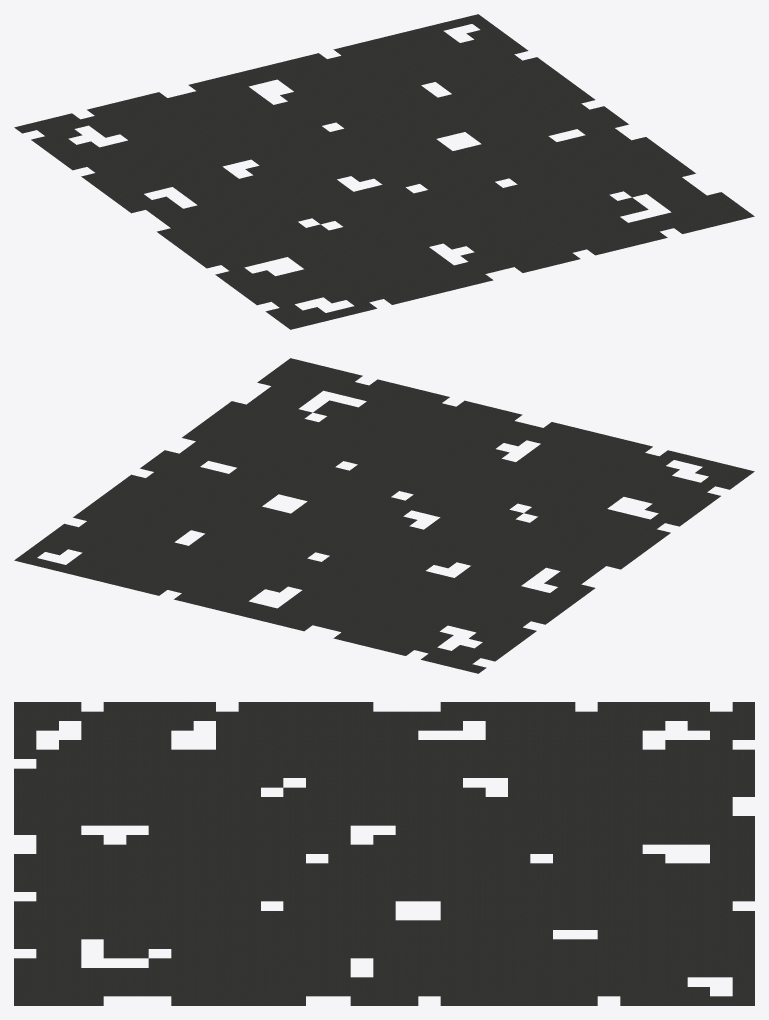
Rendered from cityLevel.obj.
3 renders of one model, top to bottom at view 1: azimuth 30°, elevation 25°; view 2: azimuth 150°, elevation 25°; view 3: azimuth 270°, elevation 25°, orthographic. The views are drawn at different scales.
Parts seen in each view (by area): view 1: Plane.002_Plane.006; view 2: Plane.002_Plane.006; view 3: Plane.002_Plane.006.
Part boxes in pixels (left/top/right/bottom): Plane.002_Plane.006: left=14, top=14, right=754, bottom=329; Plane.002_Plane.006: left=14, top=358, right=754, bottom=673; Plane.002_Plane.006: left=14, top=702, right=754, bottom=1005.
Size of the model in its own units: 40.17 by 0 by 41.43.
